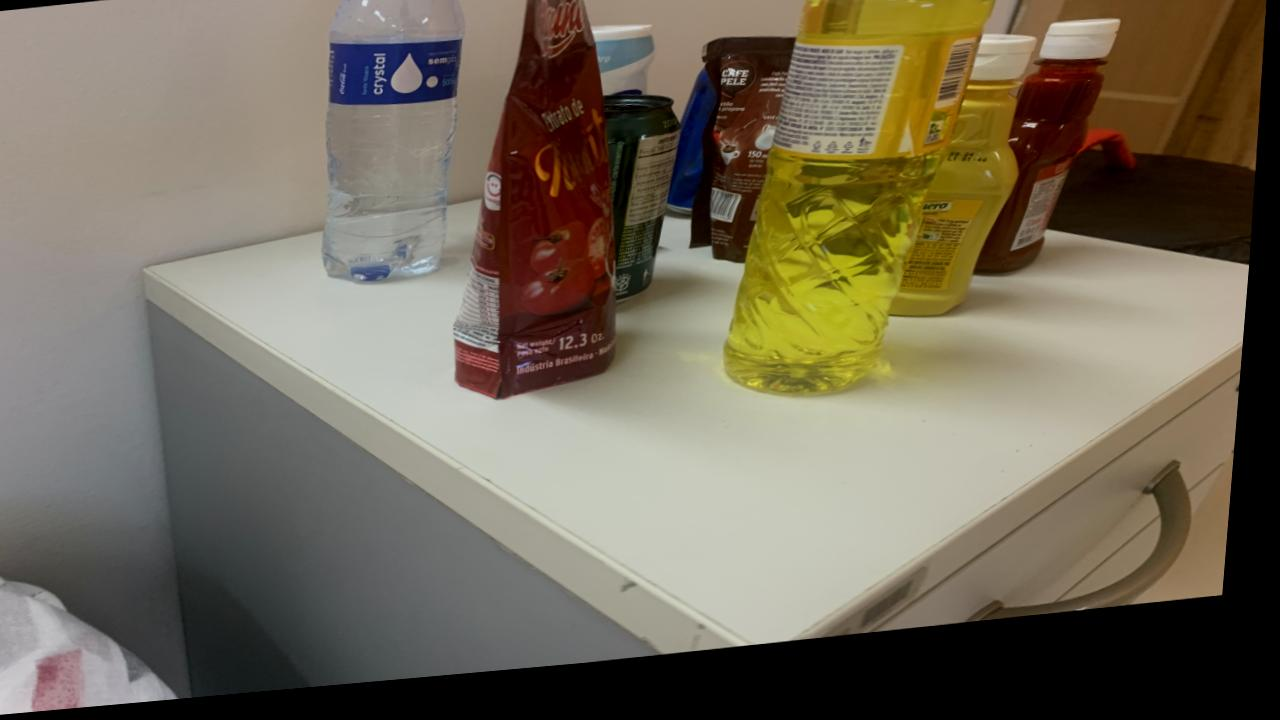Cleaner-Cleanup_Items: (592, 36, 656, 107)
Coffee-Pantry_Items: (695, 51, 796, 276)
Detergent-Cleanup_Items: (731, 0, 998, 410)
Guarana_Can-Drinks: (606, 106, 683, 313)
Ketchup-Pantry_Items: (982, 39, 1123, 293)
Mustard-Pantry_Items: (898, 53, 1038, 334)
Tomato_Sauce-Pantry_Items: (459, 0, 623, 409)
Tonic-Drinks: (671, 82, 719, 227)
Water_Bottle-Drinks: (328, 0, 466, 290)
